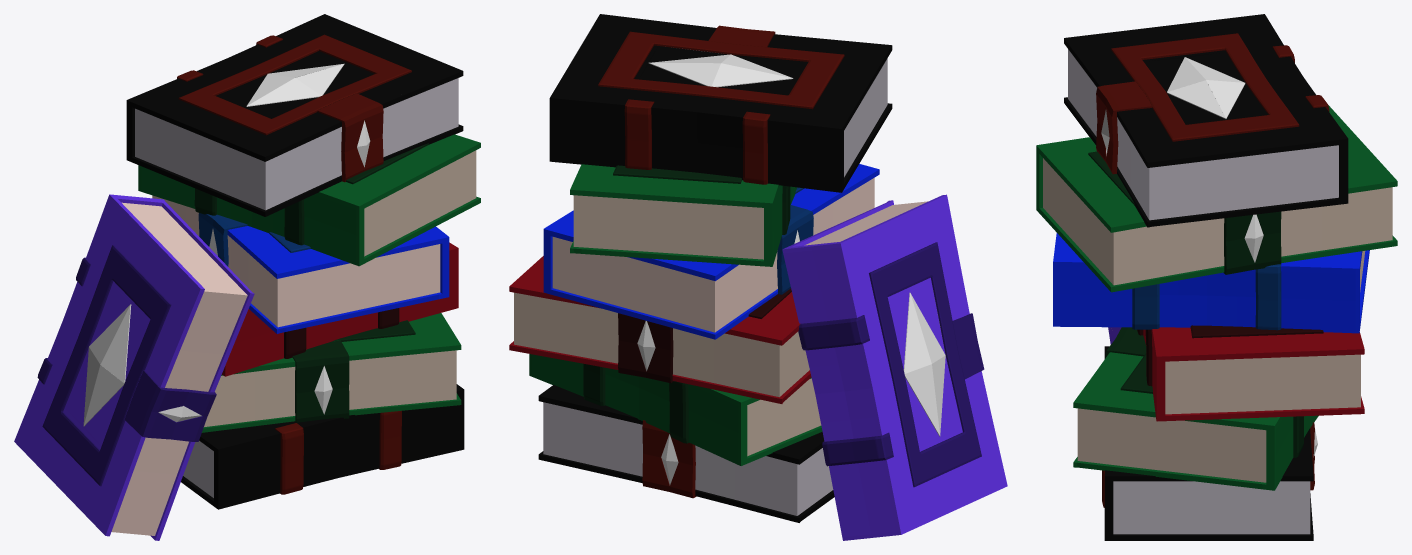
Rendered from Bücherstapel.fbx.
3 renders of one model, left to right at view 1: azimuth 30°, elevation 25°; view 2: azimuth 150°, elevation 25°; view 3: azimuth 270°, elevation 25°, orthographic. The views are drawn at different scales.
Parts seen in each view (by area): view 1: Cube, Cube.006, Cube.004, Cube.005, Cube.003, Cube.002, Cube.001; view 2: Cube, Cube.006, Cube.001, Cube.002, Cube.005, Cube.003, Cube.004; view 3: Cube.006, Cube.005, Cube.001, Cube.002, Cube.004, Cube.003.
Boxes of the visible parts, bbox=[...] form: Cube: bbox=[14, 194, 254, 540]; Cube.006: bbox=[126, 14, 463, 216]; Cube.004: bbox=[202, 313, 461, 432]; Cube.005: bbox=[138, 134, 480, 266]; Cube.003: bbox=[181, 384, 464, 509]; Cube.002: bbox=[152, 195, 449, 333]; Cube.001: bbox=[222, 242, 458, 376]; Cube: bbox=[782, 194, 1007, 540]; Cube.006: bbox=[549, 14, 892, 192]; Cube.001: bbox=[509, 256, 811, 403]; Cube.002: bbox=[543, 164, 879, 339]; Cube.005: bbox=[570, 164, 797, 266]; Cube.003: bbox=[538, 385, 834, 522]; Cube.004: bbox=[529, 354, 822, 465]; Cube.006: bbox=[1064, 14, 1348, 227]; Cube.005: bbox=[1036, 105, 1397, 292]; Cube.001: bbox=[1137, 325, 1364, 421]; Cube.002: bbox=[1053, 233, 1369, 333]; Cube.004: bbox=[1073, 327, 1318, 490]; Cube.003: bbox=[1102, 346, 1317, 540].
Bounding box in the file's own units: 316 × 312 × 242.
